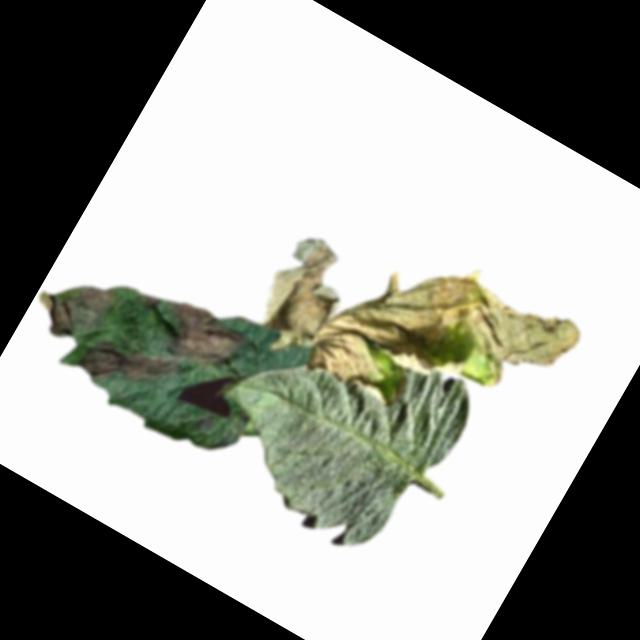Late_blight: (303, 212, 588, 478), (240, 226, 364, 367), (73, 314, 185, 416), (25, 257, 124, 356), (152, 294, 252, 384), (137, 290, 165, 315)
healthy: (188, 280, 486, 570)
